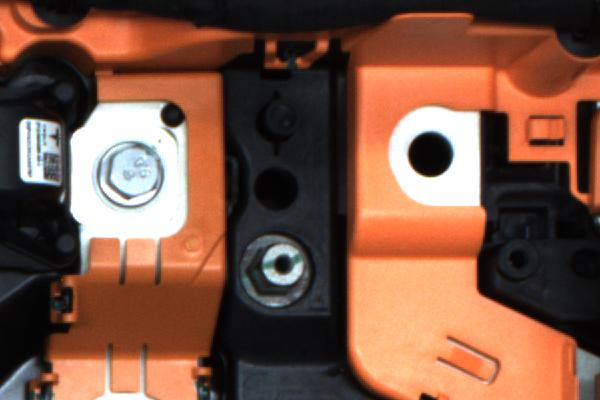nut_b: (96, 138, 176, 220)
